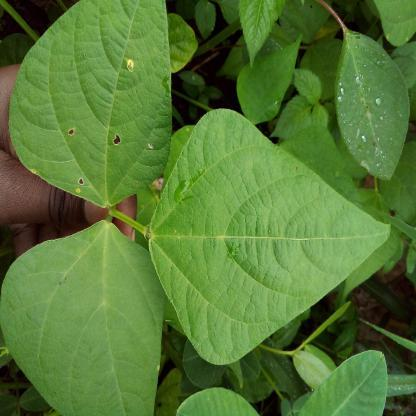Beans_Rust: (152, 113, 390, 360), (6, 0, 173, 207), (3, 220, 160, 416)
